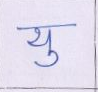u_matra: (35, 50, 60, 68)
